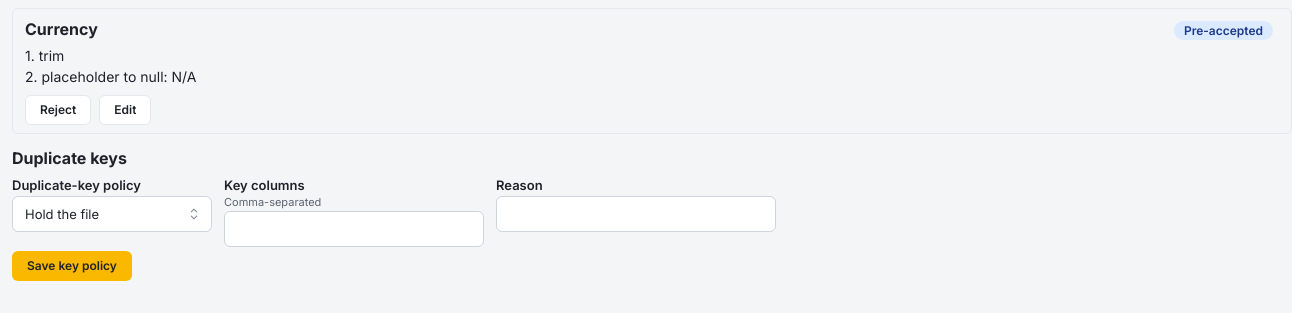
a key policy without a reason or key columns is not sent
What coordinates should you click on to do the following:
click the button "Save key policy"
I would click on:
 (72, 266)
Its box is [12,251,132,281].
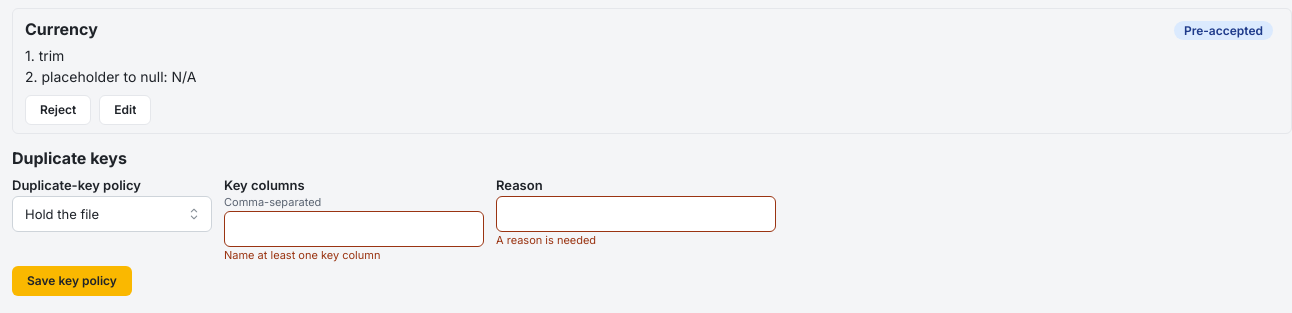
Expected: the text "A reason is needed" is shown, [496,232,596,246]
Expected: the text "Name at least one key column" is shown, [224,248,380,262]
